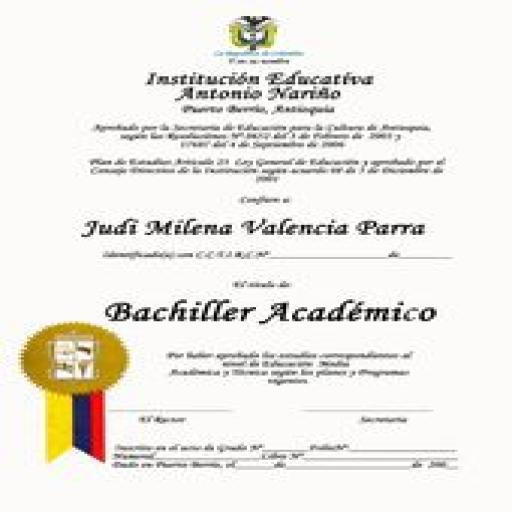bachillerato: (96, 292, 469, 333)
diploma: (13, 4, 509, 501)
institucion: (119, 64, 397, 107)
nombre: (66, 203, 435, 245)
